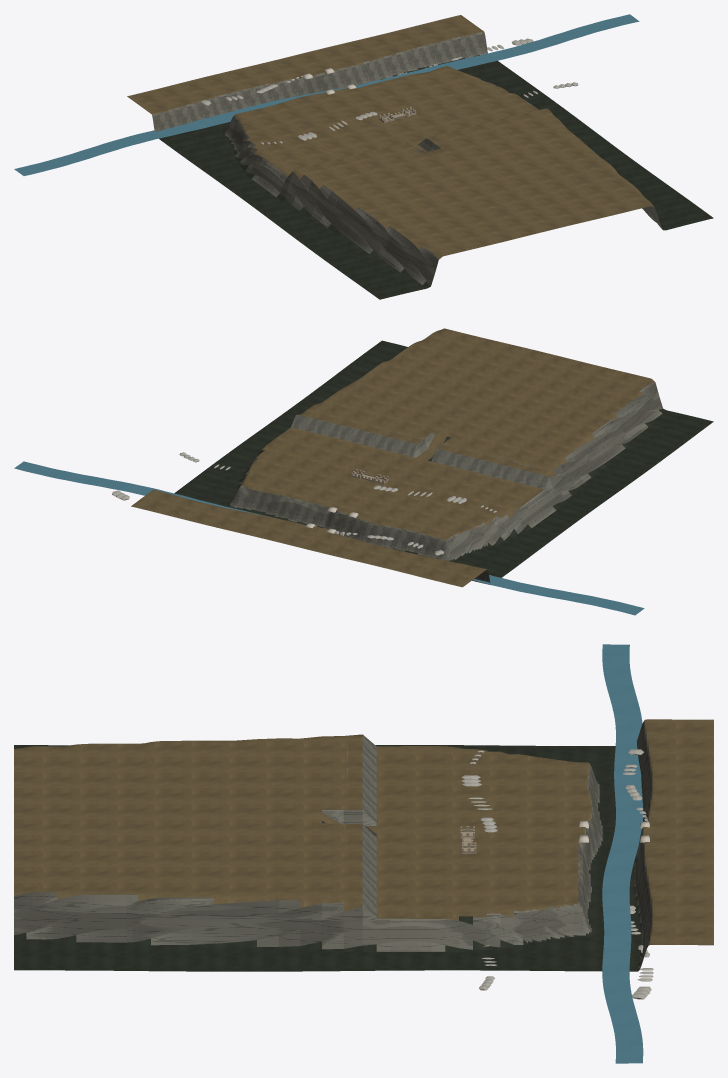
The model's file is ValoriaEntryZoneV1.glb.
3 views of the same model, one above another, from view 1: azimuth 30°, elevation 25°; view 2: azimuth 150°, elevation 25°; view 3: azimuth 270°, elevation 25° (orthographic). The views are drawn at different scales.
Visible parts, largest first — view 1: ValoriaEntryTerrainV1, V3_V2_VALORIA_RIVER_CONTINUOUS_RIPPLED_WATER, V3_V2_VALORIA_RIVERBANK_AUTHOR_ROCKS; view 2: ValoriaEntryTerrainV1, V3_V2_VALORIA_RIVER_CONTINUOUS_RIPPLED_WATER, V3_V2_VALORIA_RIVERBANK_AUTHOR_ROCKS; view 3: ValoriaEntryTerrainV1, V3_V2_VALORIA_RIVER_CONTINUOUS_RIPPLED_WATER, V3_V2_VALORIA_RIVERBANK_AUTHOR_ROCKS.
Part boxes in pixels (x1=…): ValoriaEntryTerrainV1: x1=127, y1=15, x2=713, y2=299; V3_V2_VALORIA_RIVER_CONTINUOUS_RIPPLED_WATER: x1=14, y1=14, x2=639, y2=175; V3_V2_VALORIA_RIVERBANK_AUTHOR_ROCKS: x1=201, y1=38, x2=578, y2=144; ValoriaEntryTerrainV1: x1=131, y1=328, x2=713, y2=587; V3_V2_VALORIA_RIVER_CONTINUOUS_RIPPLED_WATER: x1=14, y1=461, x2=644, y2=615; V3_V2_VALORIA_RIVERBANK_AUTHOR_ROCKS: x1=112, y1=452, x2=496, y2=555; ValoriaEntryTerrainV1: x1=14, y1=719, x2=713, y2=971; V3_V2_VALORIA_RIVER_CONTINUOUS_RIPPLED_WATER: x1=602, y1=644, x2=643, y2=1063; V3_V2_VALORIA_RIVERBANK_AUTHOR_ROCKS: x1=461, y1=749, x2=653, y2=999.
Size of the model in its own units: 166 by 7.97 by 117.
10 materials, 6 textured.
